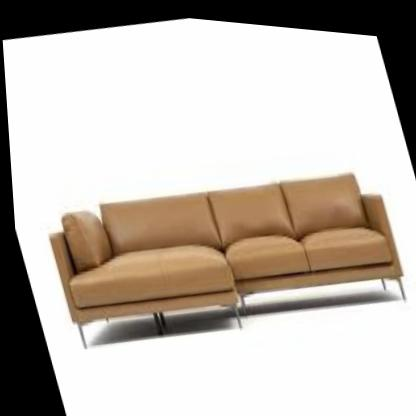Sofa: (13, 109, 416, 401)
